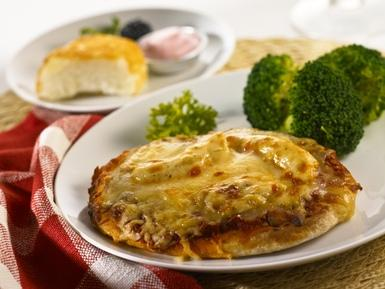broccoli: (283, 60, 366, 159), (318, 44, 385, 127), (242, 53, 300, 131), (122, 20, 151, 41)
